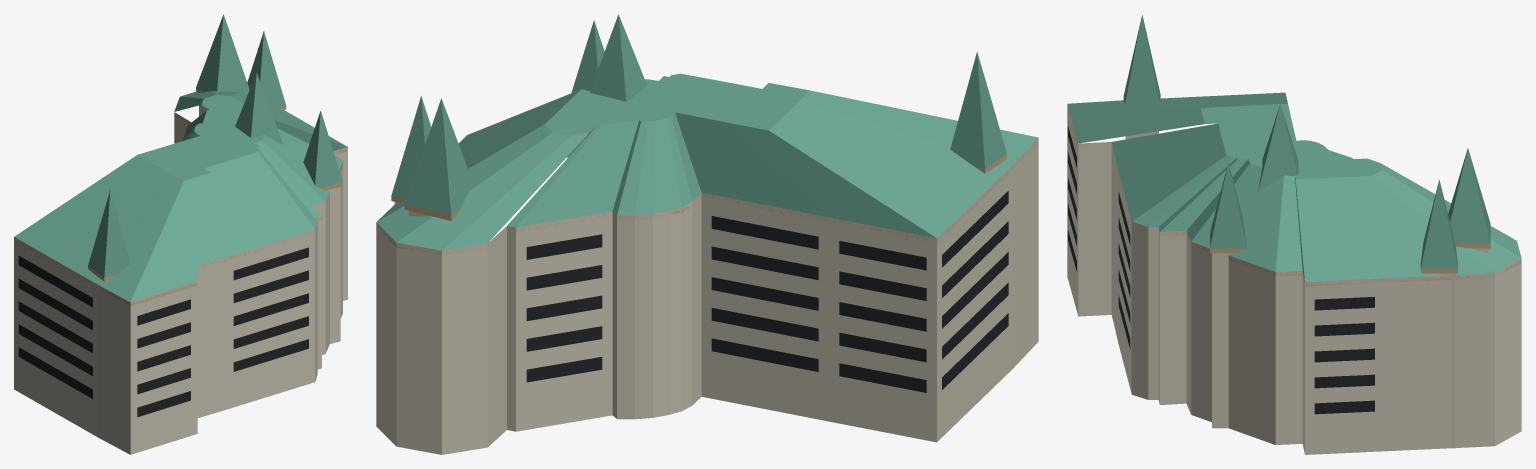
File: br_b255_hotel_macdonald.gltf
3 views of the same model, side by side, from view 1: azimuth 30°, elevation 25°; view 2: azimuth 150°, elevation 25°; view 3: azimuth 270°, elevation 25° (orthographic). The views are drawn at different scales.
Visible parts, largest first — view 1: br_b255_hotel_macdonald; view 2: br_b255_hotel_macdonald; view 3: br_b255_hotel_macdonald.
Part boxes in pixels (box(x1,y1,x2,y2)): br_b255_hotel_macdonald: box(14, 14, 347, 454); br_b255_hotel_macdonald: box(376, 14, 1038, 454); br_b255_hotel_macdonald: box(1067, 15, 1521, 454).
Bounding box in the file's own units: 70.44 × 51.1 × 71.41.
